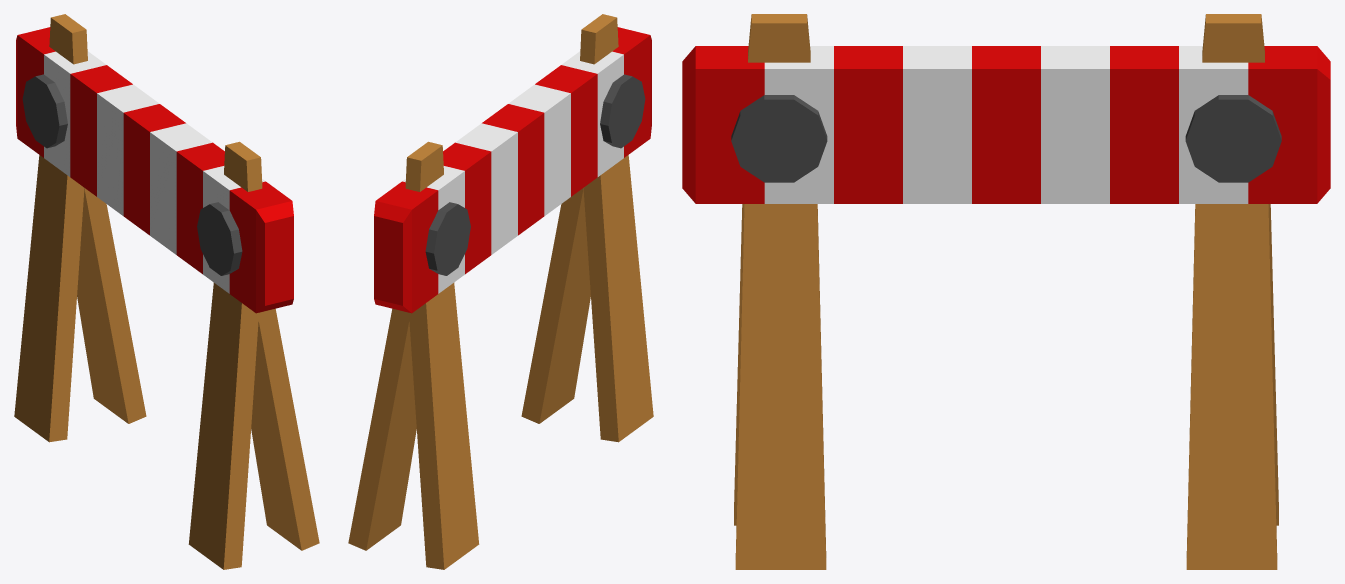
File: block 1.fbx
3 views of the same model, side by side, from view 1: azimuth 30°, elevation 25°; view 2: azimuth 150°, elevation 25°; view 3: azimuth 270°, elevation 25° (orthographic). The views are drawn at different scales.
Parts seen in each view (by area): view 1: plane.005, Cube, Cylinder.001; view 2: plane.005, Cube, Cylinder.001; view 3: Cube, plane.005, Cylinder.001.
Boxes of the visible parts, x1,y1,x2,y2 form: plane.005: (14,14,319,569); Cube: (16,27,293,313); Cylinder.001: (22,74,242,275); plane.005: (348,14,653,569); Cube: (374,27,651,313); Cylinder.001: (425,74,645,275); Cube: (682,46,1330,203); plane.005: (734,14,1278,569); Cylinder.001: (731,95,1281,182).
Size of the model in its own units: 32 by 126 by 143.
